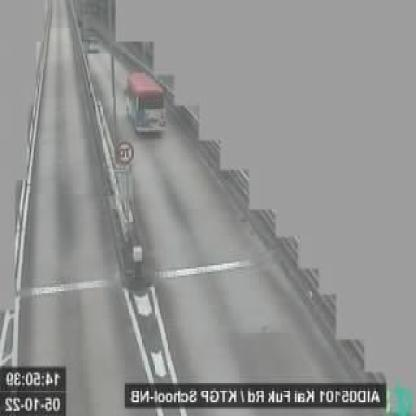Minibus: (126, 69, 166, 137)
